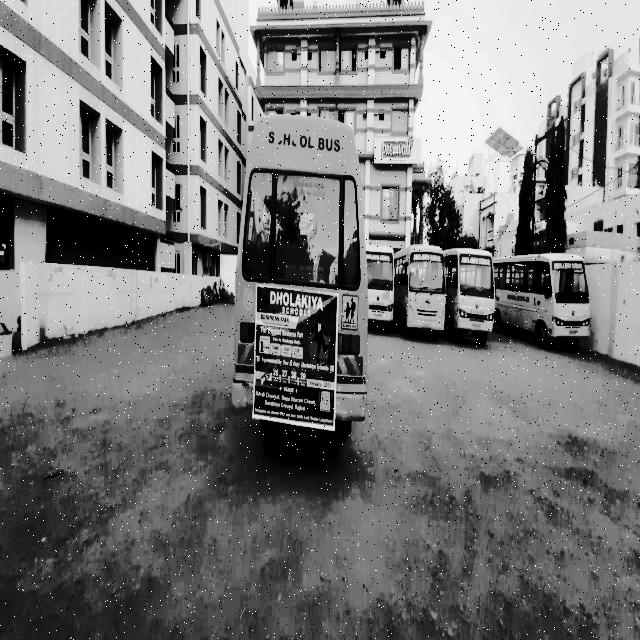Bus: (227, 94, 375, 474), (500, 250, 592, 352), (454, 243, 498, 350), (402, 241, 448, 343), (364, 227, 396, 338)
